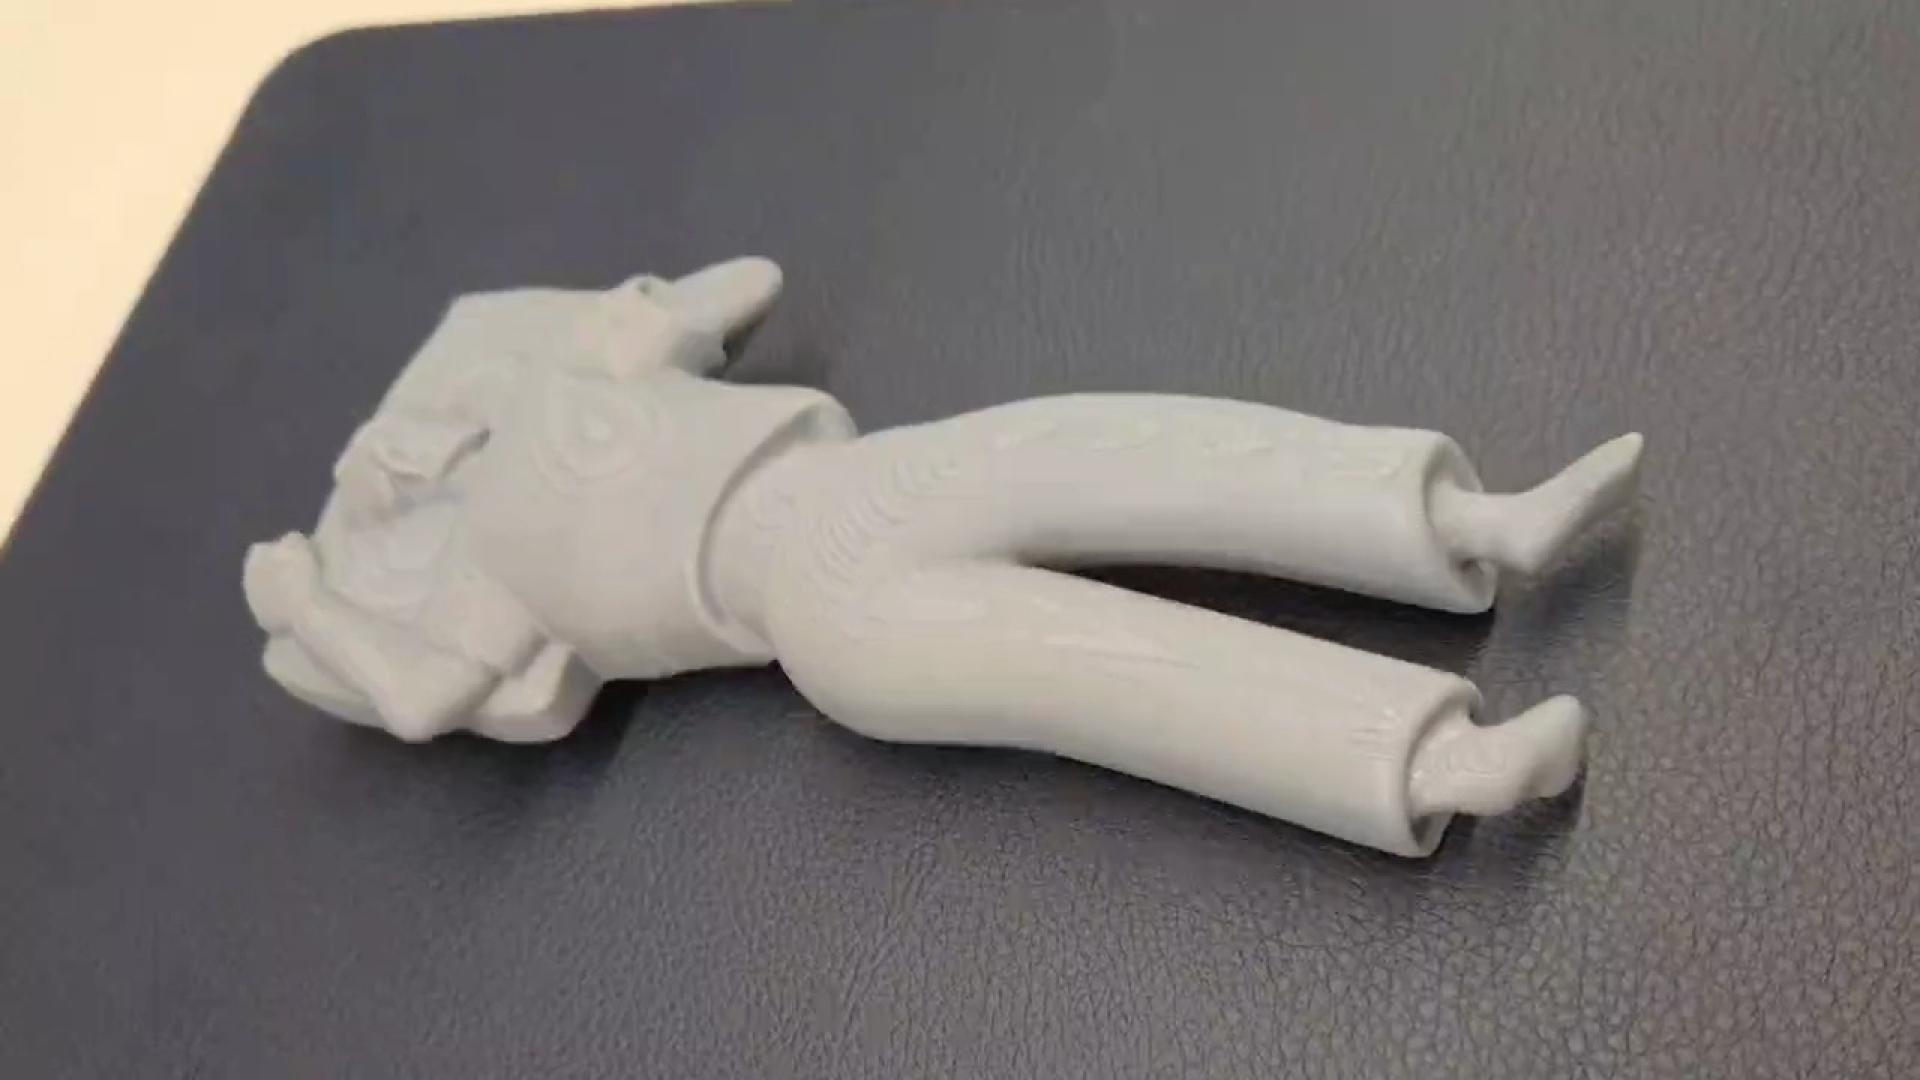Bad-style: (257, 252, 1651, 868)
